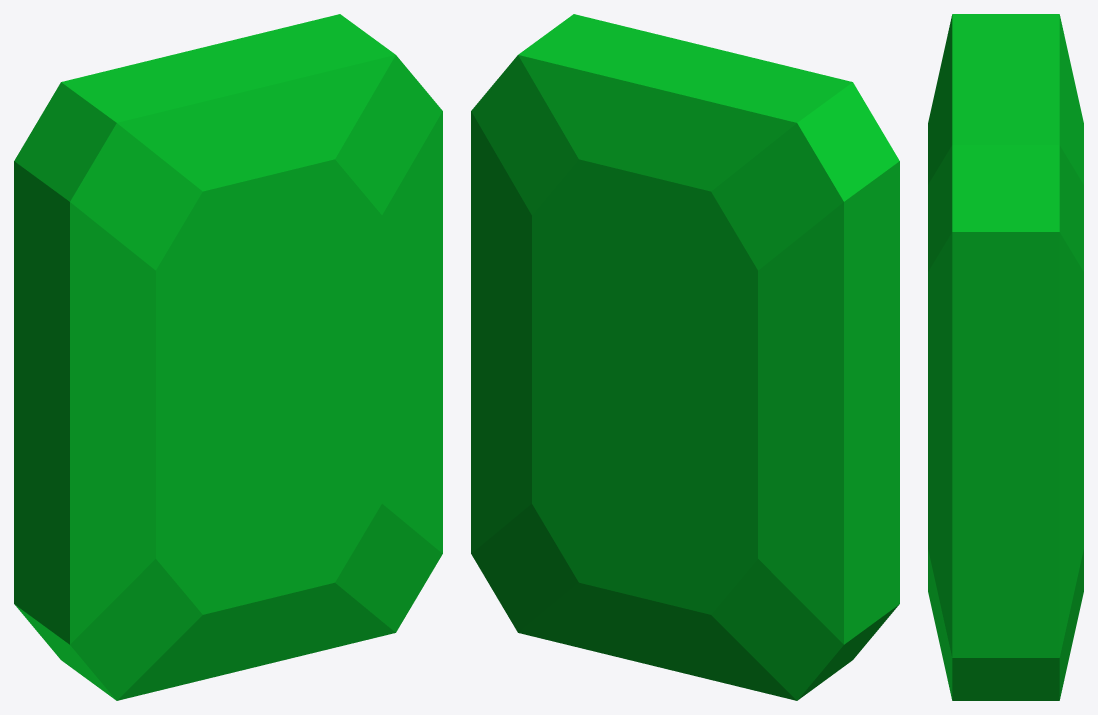
The model's file is amuletgem2.glb.
3 renders of one model, left to right at view 1: azimuth 30°, elevation 25°; view 2: azimuth 150°, elevation 25°; view 3: azimuth 270°, elevation 25°, orthographic. The views are drawn at different scales.
Visible parts, largest first — view 1: Cube; view 2: Cube; view 3: Cube.
Part boxes in pixels (x1,y1,x2,y2): Cube: [14, 14, 442, 700]; Cube: [471, 14, 899, 700]; Cube: [928, 14, 1083, 700].
Size of the model in its own units: 2.67 by 3.96 by 1.
1 material, 1 textured.
